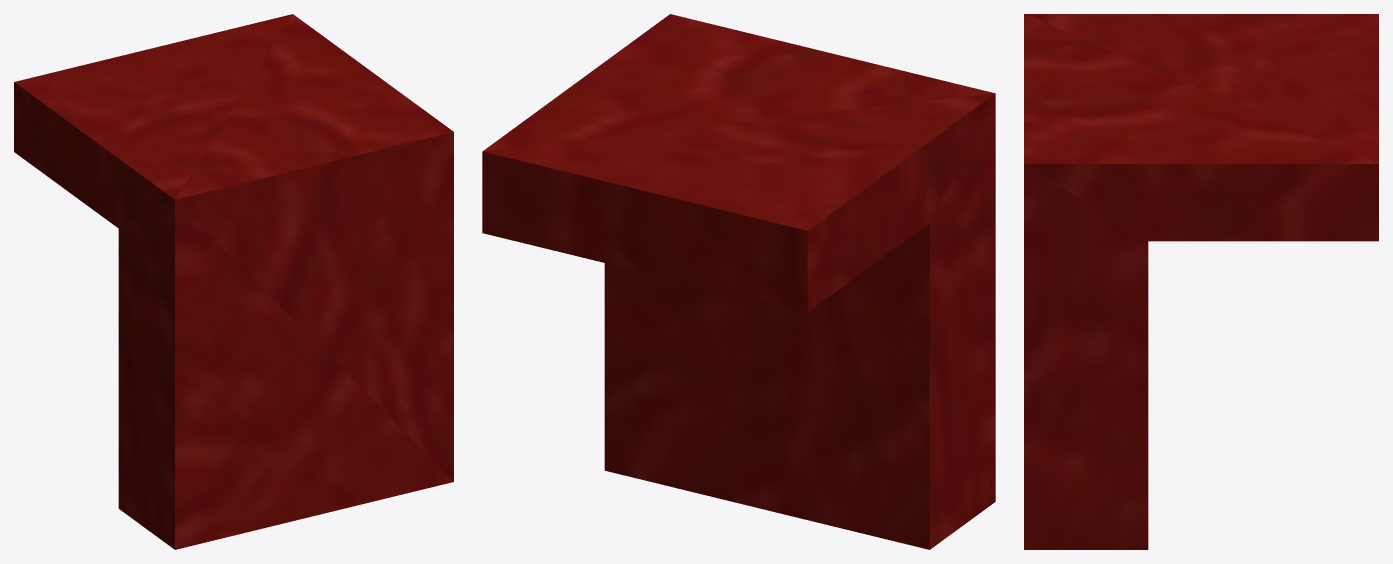
File: but_milieu.obj
3 renders of one model, left to right at view 1: azimuth 30°, elevation 25°; view 2: azimuth 150°, elevation 25°; view 3: azimuth 270°, elevation 25°, orthographic. The views are drawn at different scales.
Visible parts, largest first — view 1: Mesh_but_milieu; view 2: Mesh_but_milieu; view 3: Mesh_but_milieu.
Part boxes in pixels (x1,y1,x2,y2): Mesh_but_milieu: (14,14,453,549); Mesh_but_milieu: (482,14,995,549); Mesh_but_milieu: (1024,14,1378,549).
Size of the model in its own units: 1 by 1.2 by 1.
Materials: 1 (1 with a texture image).
